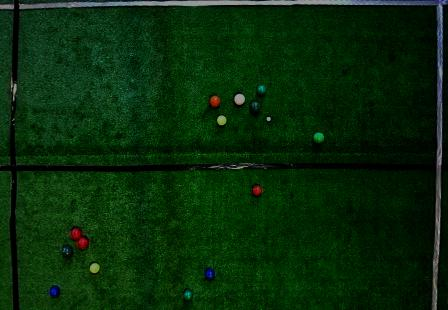blue: (204, 269, 215, 280), (50, 285, 60, 297)
green: (249, 101, 261, 114), (312, 132, 324, 144), (183, 289, 194, 301), (62, 245, 73, 257), (256, 85, 267, 96)
red: (77, 236, 89, 250), (209, 96, 220, 108), (71, 227, 82, 239), (234, 93, 245, 105), (252, 185, 262, 196)
vline: (427, 1, 447, 309), (1, 1, 21, 309)
white: (266, 116, 271, 121)
yellow: (89, 262, 100, 274), (217, 115, 227, 126)
